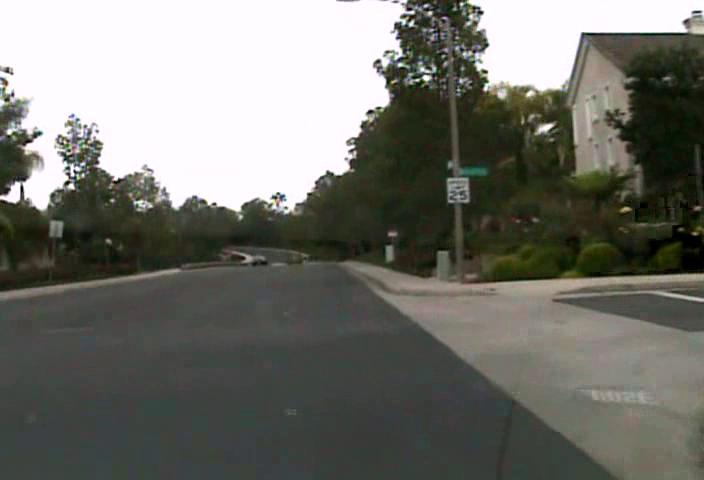speedLimit25: (446, 176, 470, 204)
